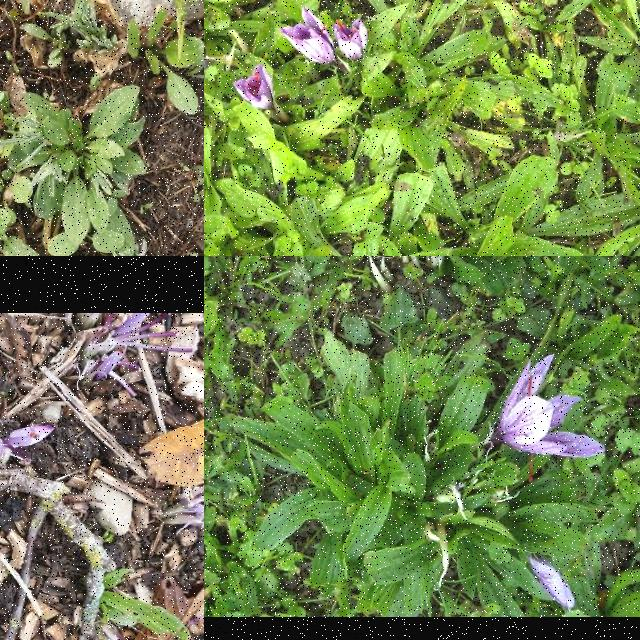flower: (492, 354, 606, 484), (280, 8, 336, 66), (528, 554, 576, 610), (232, 64, 278, 116), (336, 19, 370, 61), (10, 427, 40, 447), (204, 56, 213, 88)
